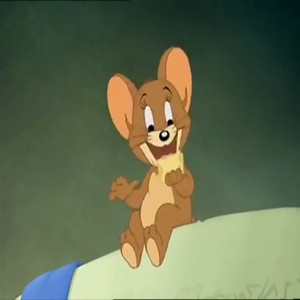Jerry: (94, 42, 202, 271)
